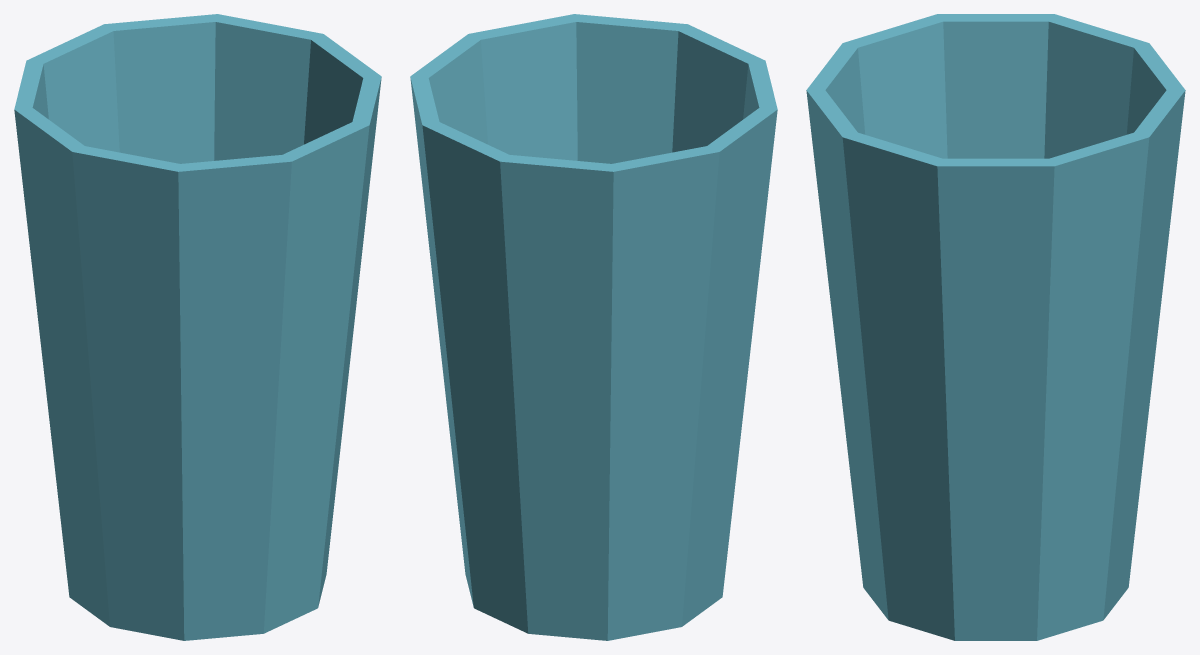
The model's file is glass.fbx.
3 views of the same model, side by side, from view 1: azimuth 30°, elevation 25°; view 2: azimuth 150°, elevation 25°; view 3: azimuth 270°, elevation 25° (orthographic).
Visible parts, largest first — view 1: Cylinder; view 2: Cylinder; view 3: Cylinder.
Part boxes in pixels (x1,y1,x2,y2): Cylinder: (14,14,381,640); Cylinder: (410,14,777,640); Cylinder: (806,14,1185,640).
Bounding box in the file's own units: 0.882 × 1.34 × 0.9274.
